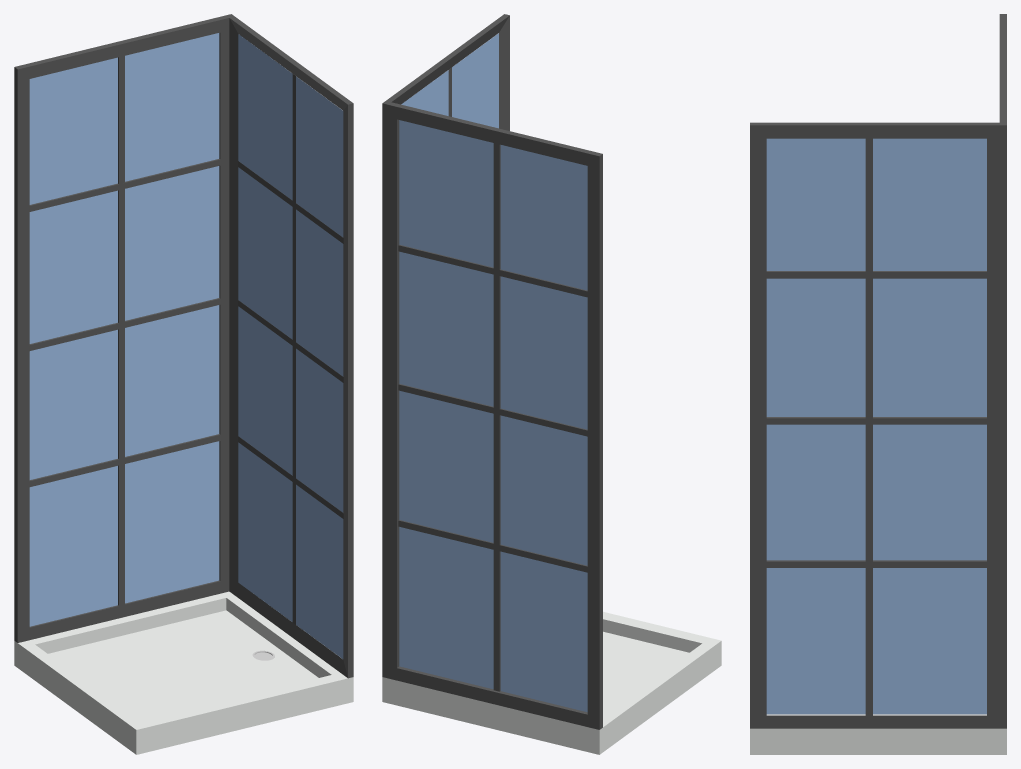
The model's file is corner_shower.glb.
3 renders of one model, left to right at view 1: azimuth 30°, elevation 25°; view 2: azimuth 150°, elevation 25°; view 3: azimuth 270°, elevation 25°, orthographic. The views are drawn at different scales.
Visible parts, largest first — view 1: Mesh1_Blacktop_New_0; view 2: Mesh1_Blacktop_New_0; view 3: Mesh1_Blacktop_New_0.
Boxes of the visible parts, x1=… form: Mesh1_Blacktop_New_0: x1=14, y1=14, x2=353, y2=754; Mesh1_Blacktop_New_0: x1=382, y1=14, x2=721, y2=754; Mesh1_Blacktop_New_0: x1=750, y1=14, x2=1006, y2=754.
Bounding box in the file's own units: 0.9115 × 2.4 × 0.8875.
Materials: 2 (2 with a texture image).
